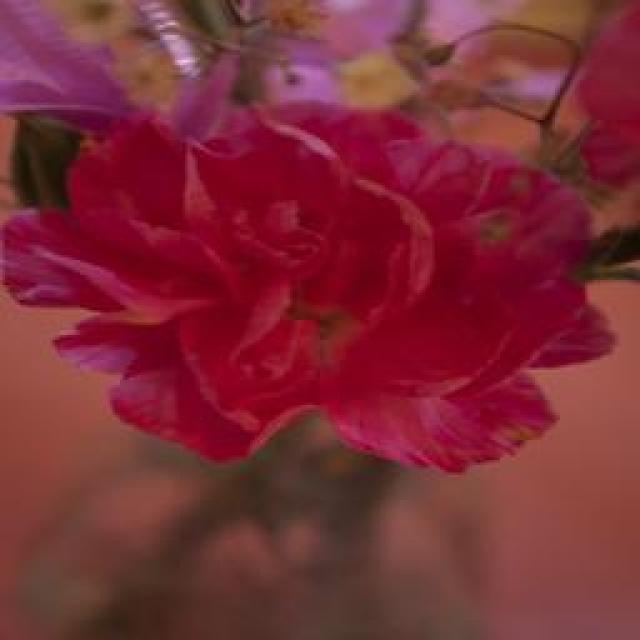carnation: (13, 83, 617, 490)
